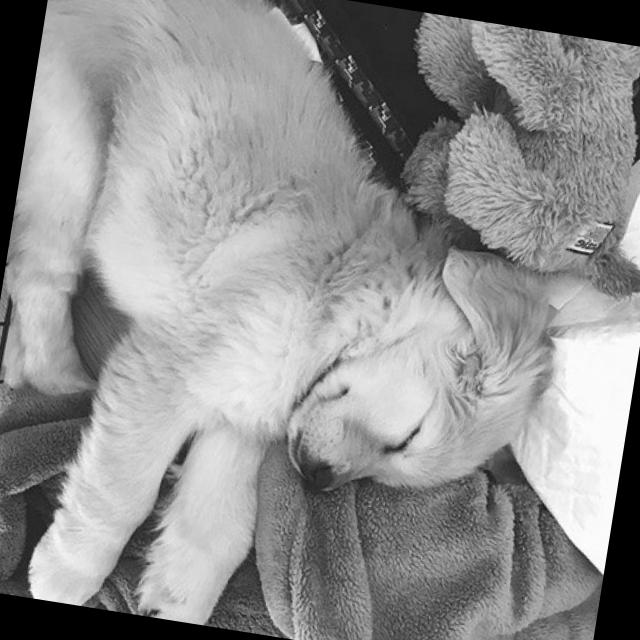laying down: (0, 0, 609, 640)
